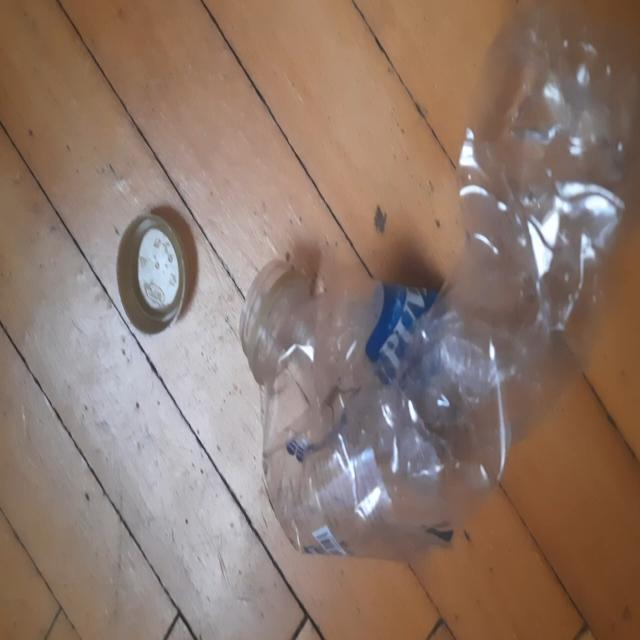Plastic: (240, 2, 638, 558)
